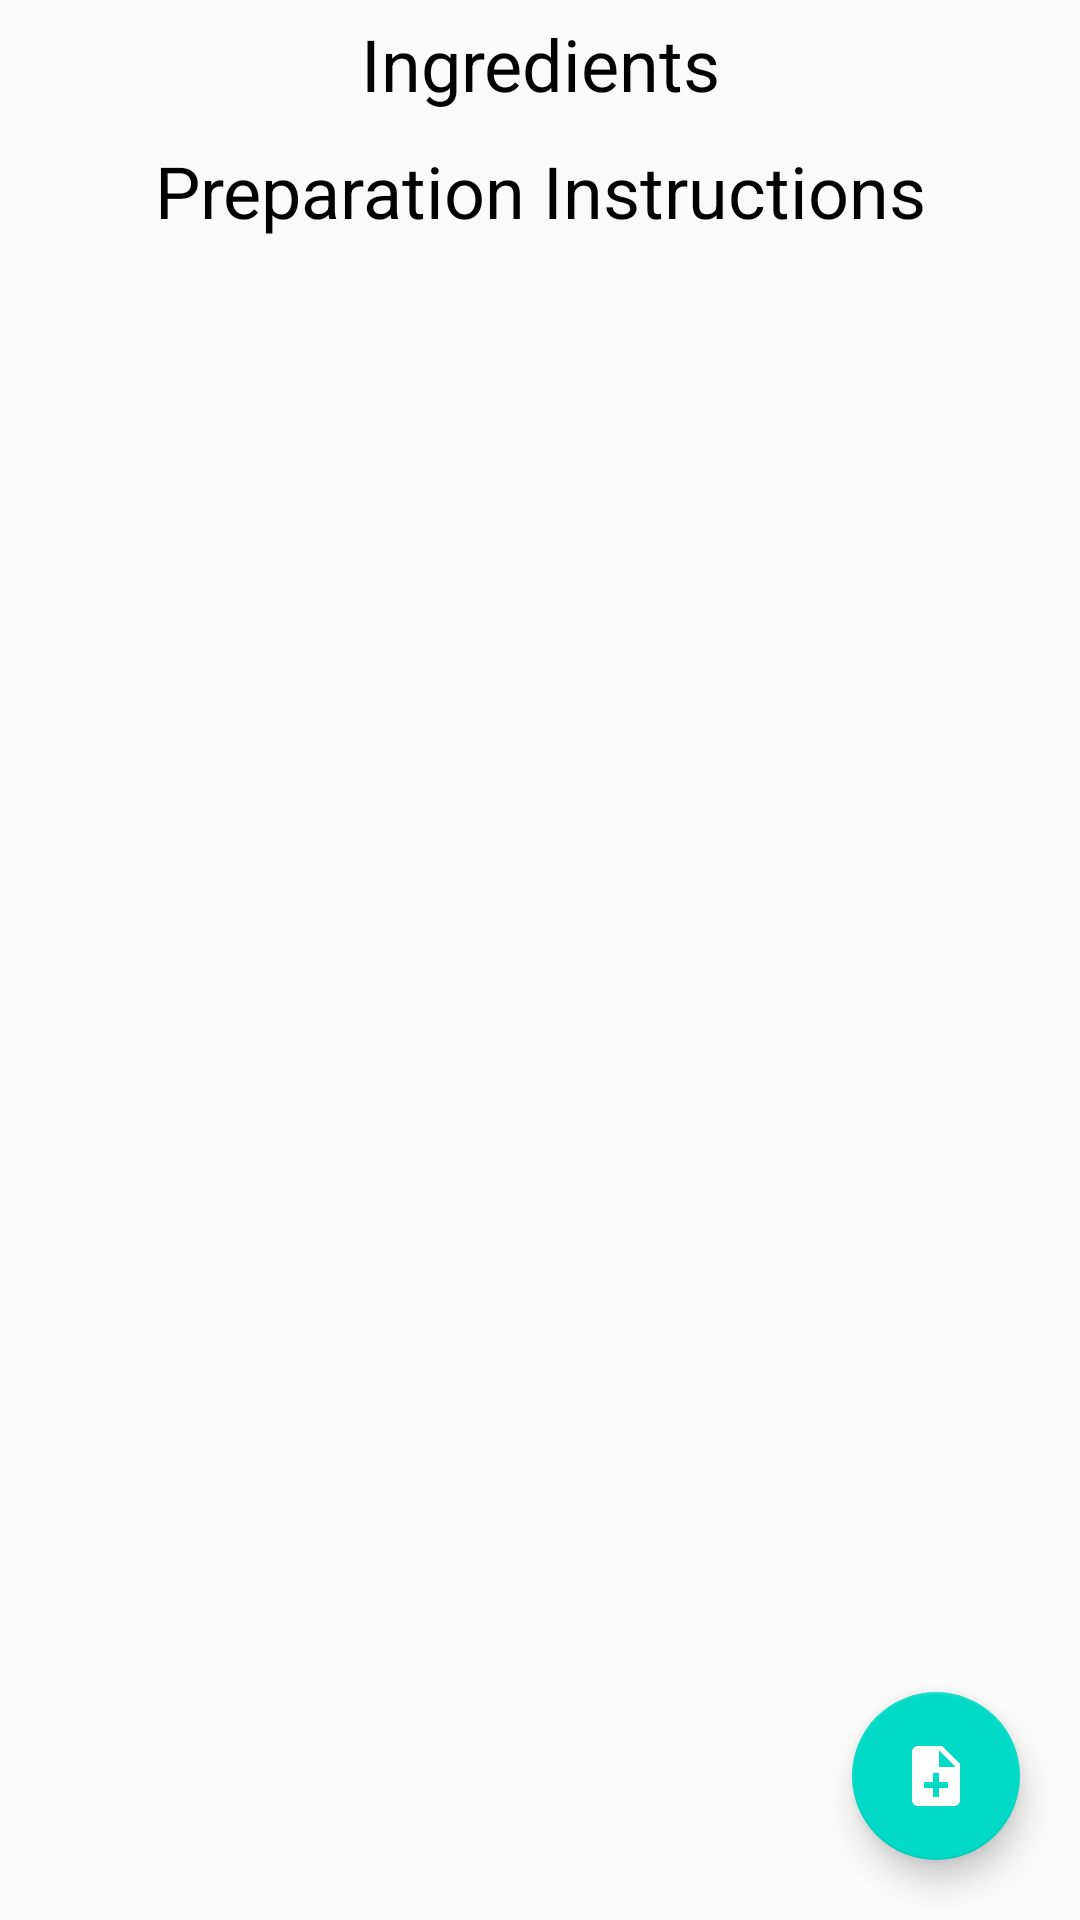

Where to tap for icons on this 1080×1920 app screen, as [x,y]:
note add: [936,1776]
